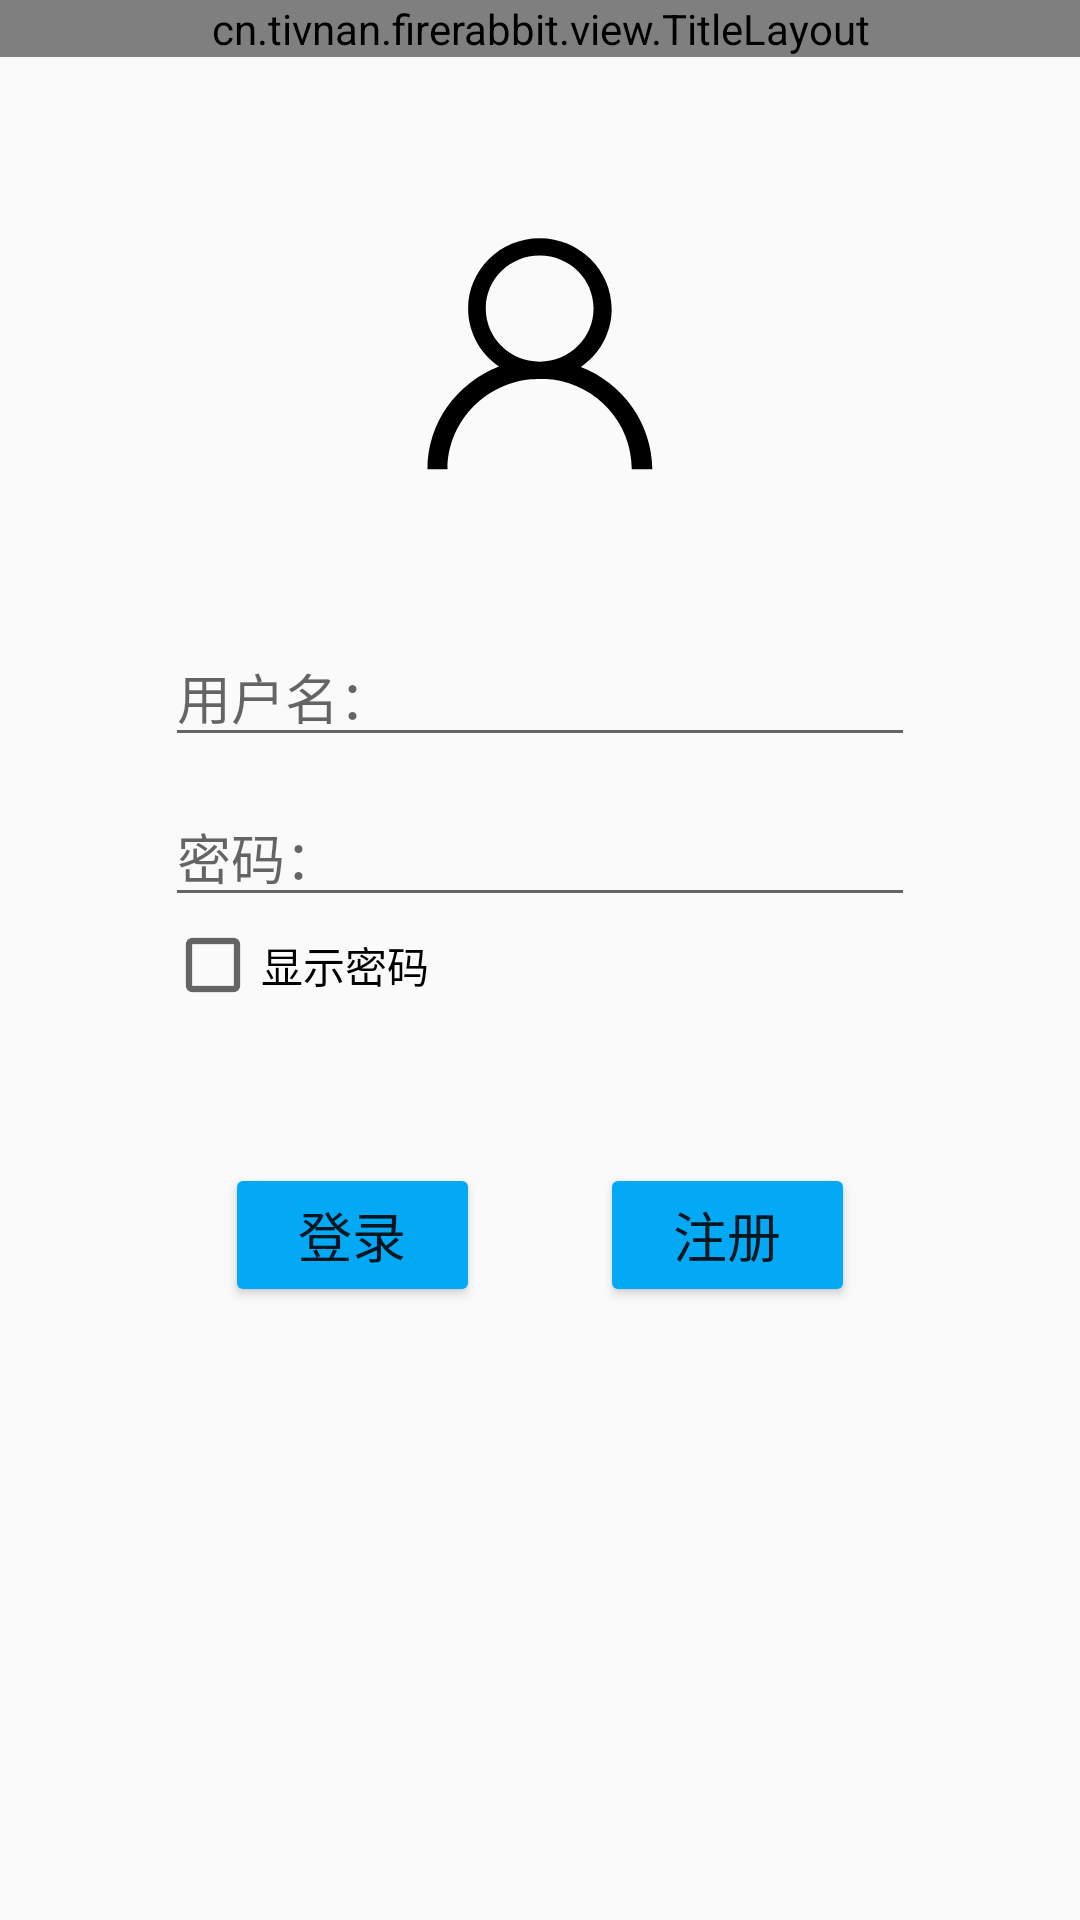

Where to tap for icons on this 1080px×1920px app screen, as point (x, y):
user avator: point (540, 354)
